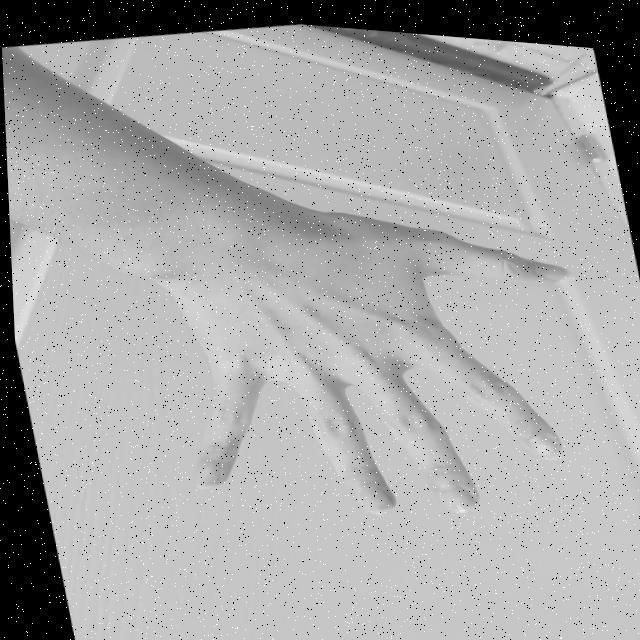no-gloves: (137, 168, 615, 558)
